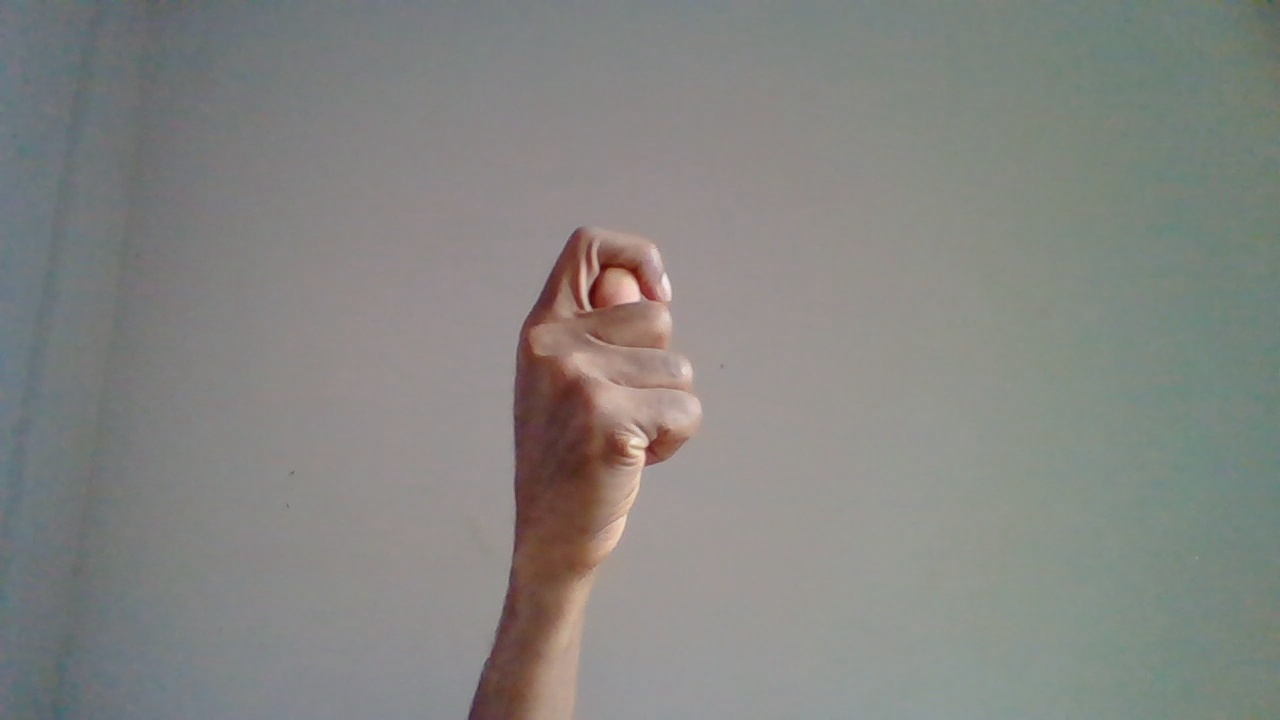che: (508, 225, 701, 711)
